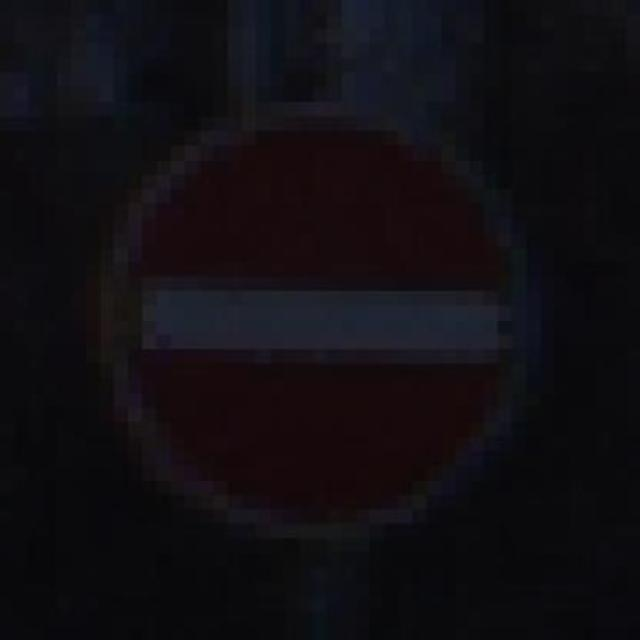No Entry: (42, 87, 598, 553)
